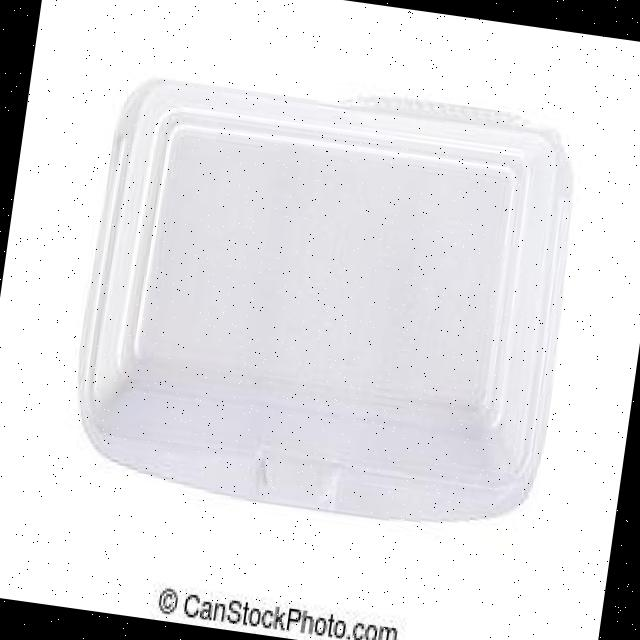styrofoam: (60, 55, 590, 541)
